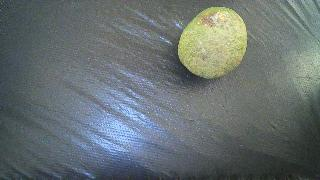DESECHO: (178, 7, 248, 79)
